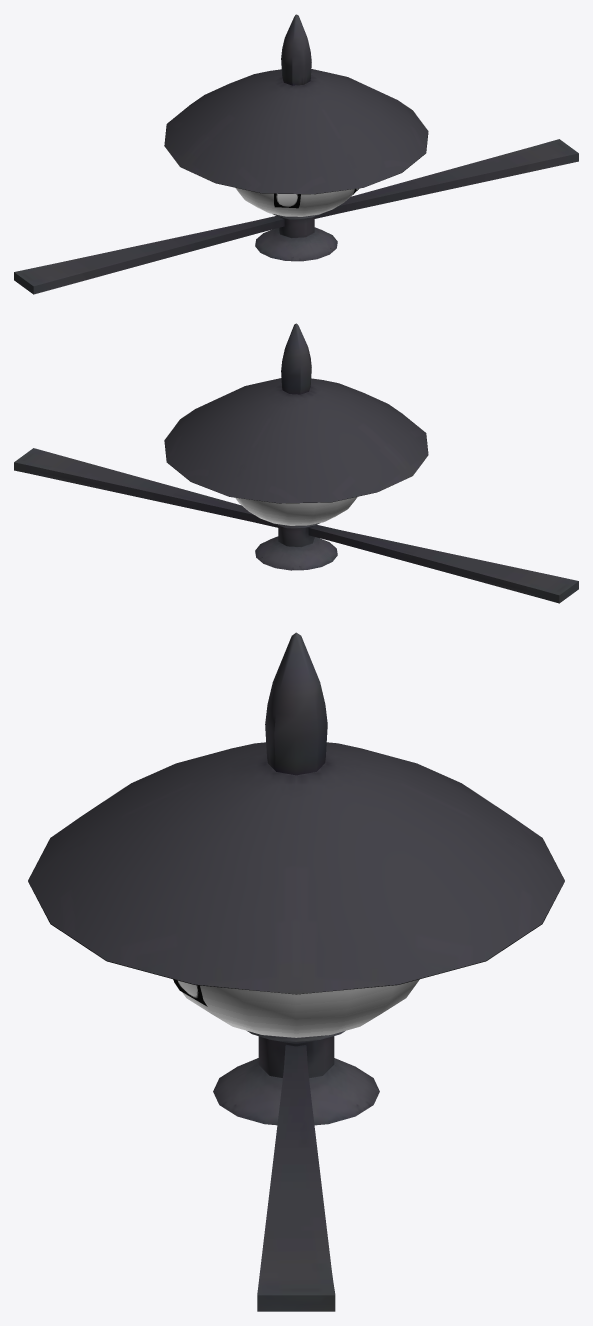
Rendered from lampent.glb.
3 views of the same model, one above another, from view 1: azimuth 30°, elevation 25°; view 2: azimuth 150°, elevation 25°; view 3: azimuth 270°, elevation 25° (orthographic). The views are drawn at different scales.
Visible parts, largest first — view 1: Object_2, Object_4, Object_3; view 2: Object_2, Object_4; view 3: Object_2, Object_4.
Boxes of the visible parts, x1=… form: Object_2: x1=14, y1=14, x2=578, y2=294; Object_4: x1=235, y1=188, x2=354, y2=216; Object_3: x1=274, y1=188, x2=359, y2=208; Object_2: x1=14, y1=323, x2=578, y2=603; Object_4: x1=235, y1=497, x2=357, y2=525; Object_2: x1=28, y1=632, x2=564, y2=1311; Object_4: x1=173, y1=979, x2=419, y2=1037.
Bounding box in the file's own units: 13.94 × 6.01 × 5.95.
Materials: 4 (4 with a texture image).
